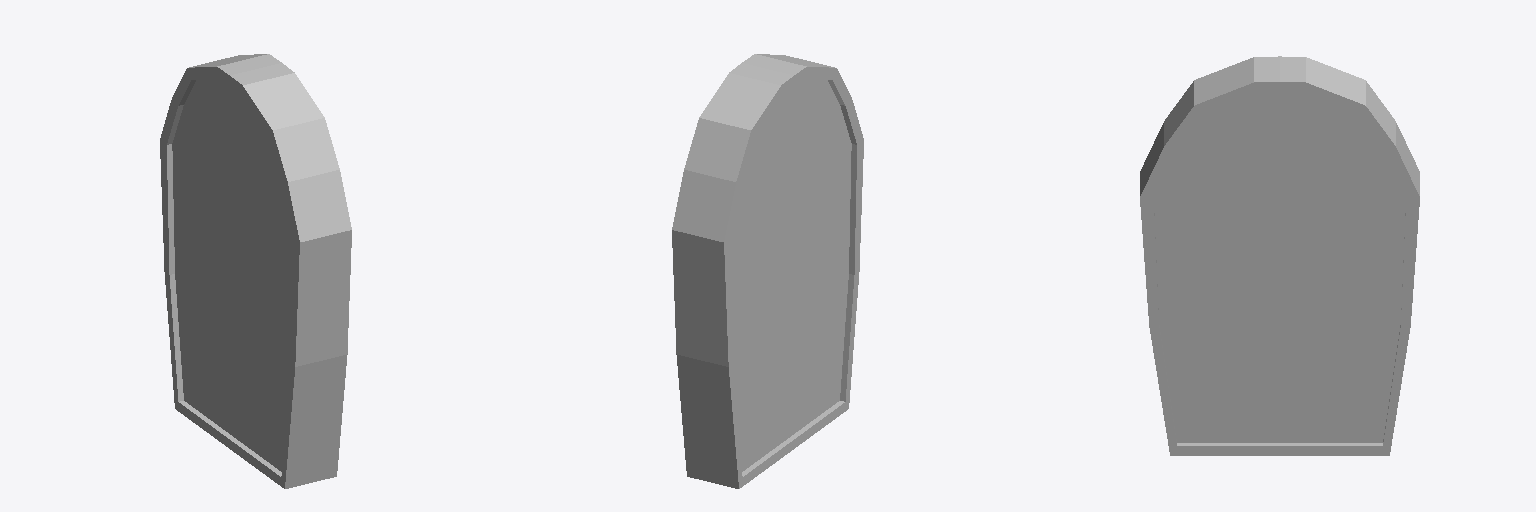
File: grave-3.obj
3 renders of one model, left to right at view 1: azimuth 30°, elevation 25°; view 2: azimuth 150°, elevation 25°; view 3: azimuth 270°, elevation 25°, orthographic.
Parts seen in each view (by area): view 1: grave2; view 2: grave2; view 3: grave2.
Boxes of the visible parts, x1,y1,x2,y2 form: grave2: [160, 54, 351, 488]; grave2: [672, 54, 863, 488]; grave2: [1140, 56, 1419, 455].
Size of the model in its own units: 1.28 by 8.78 by 5.97.